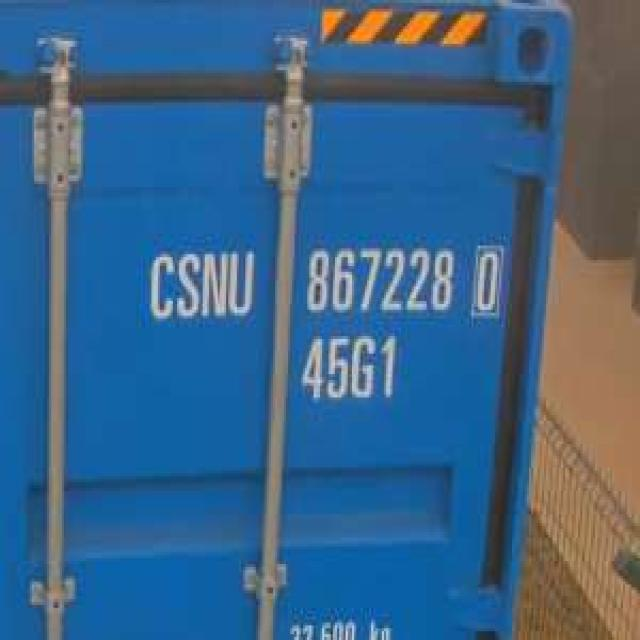dv: (470, 244, 504, 321)
owner: (144, 244, 260, 328)
serial: (304, 244, 457, 320)
size: (294, 329, 406, 407)
